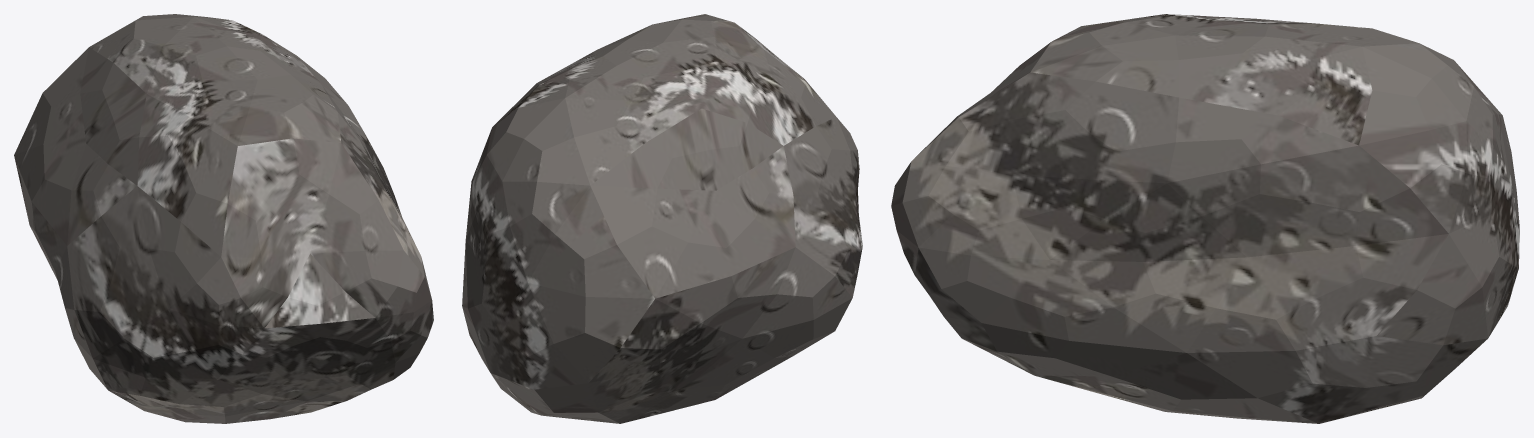
Rendered from asteriode.fbx.
3 views of the same model, side by side, from view 1: azimuth 30°, elevation 25°; view 2: azimuth 150°, elevation 25°; view 3: azimuth 270°, elevation 25° (orthographic). The views are drawn at different scales.
Visible parts, largest first — view 1: Icosphere; view 2: Icosphere; view 3: Icosphere.
Boxes of the visible parts, x1,y1,x2,y2 form: Icosphere: [14, 14, 433, 423]; Icosphere: [462, 14, 862, 423]; Icosphere: [891, 14, 1519, 423].
Bounding box in the file's own units: 1.38 × 1.49 × 2.21.
Materials: 1 (1 with a texture image).
